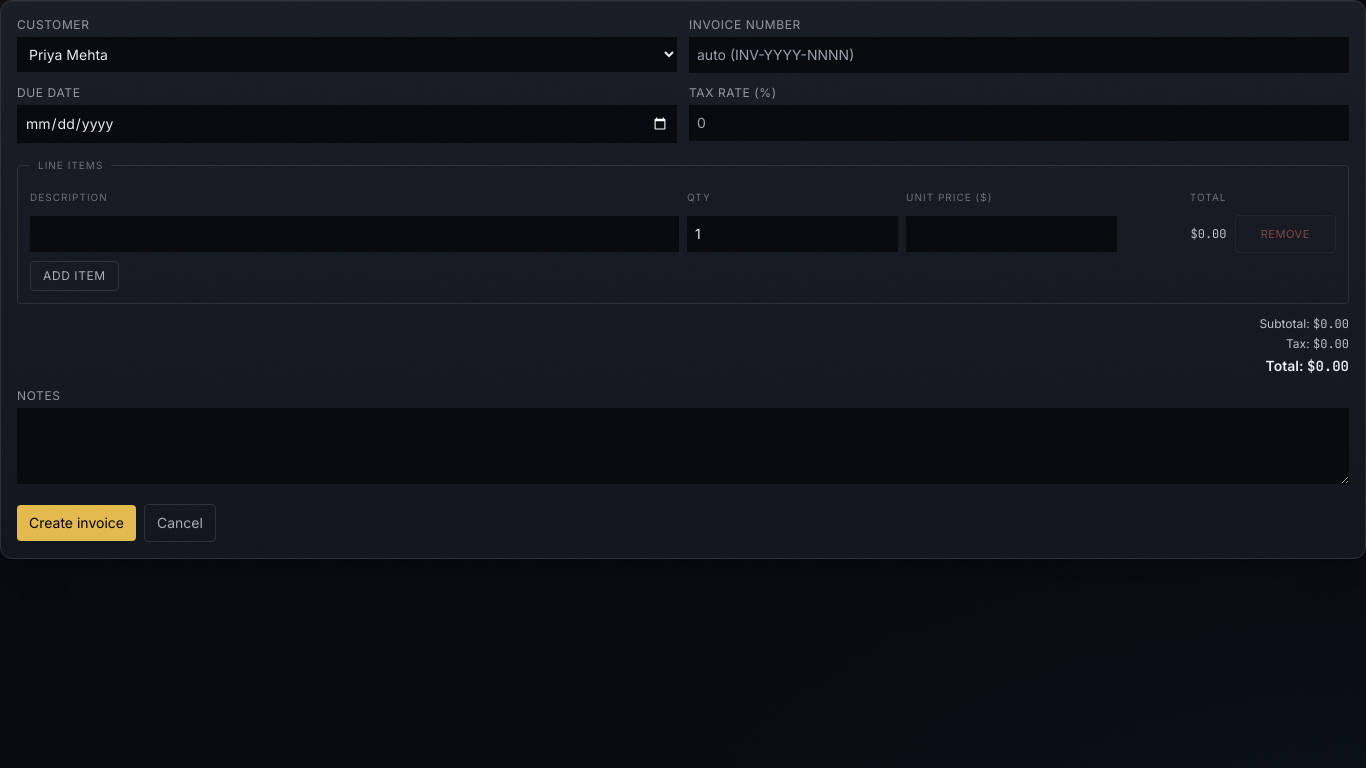
Test: InvoiceForm — create mode › renders the action's error message under role=alert and does not navigate
The width and height of the screenshot is (1366, 768).
Click the button "Create invoice" at (76, 523), box [17,505,136,541]
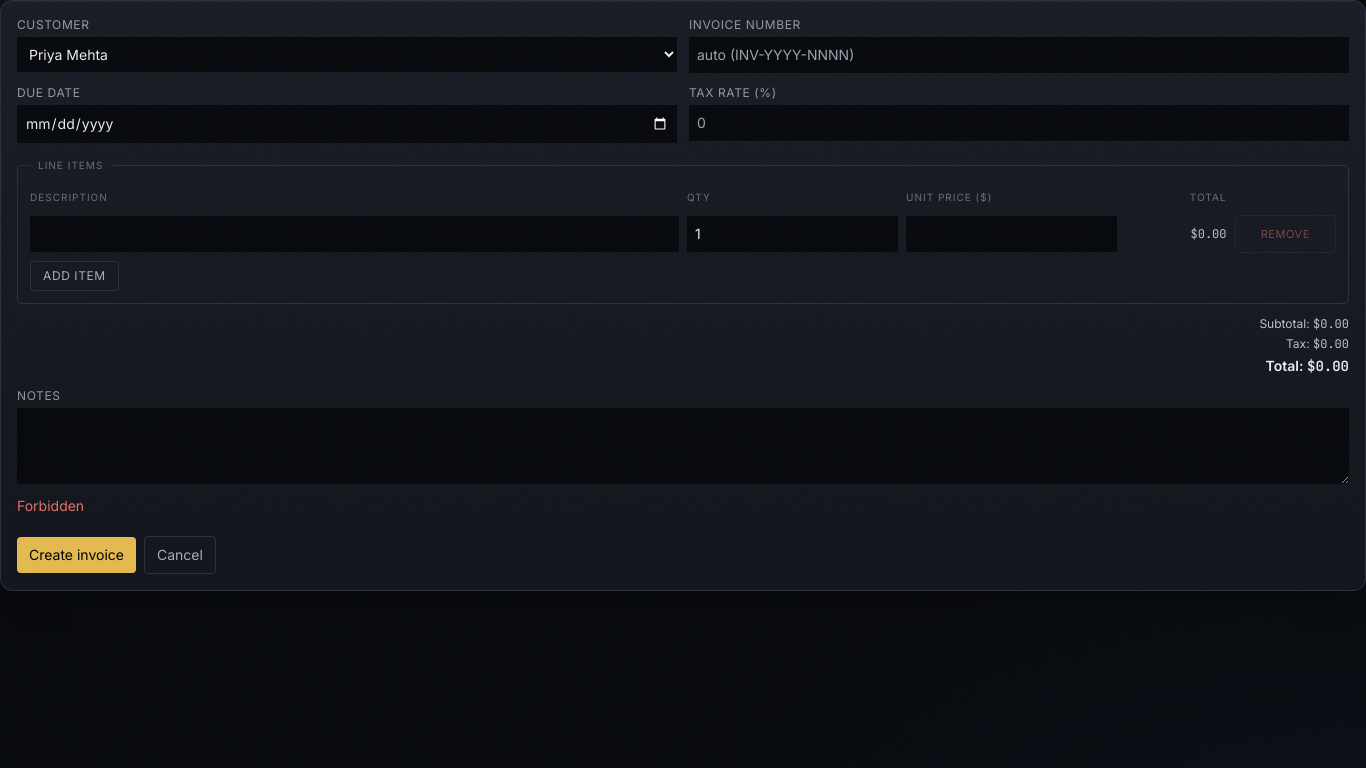
Expected: the message reads "Forbidden", [17,497,84,514]
